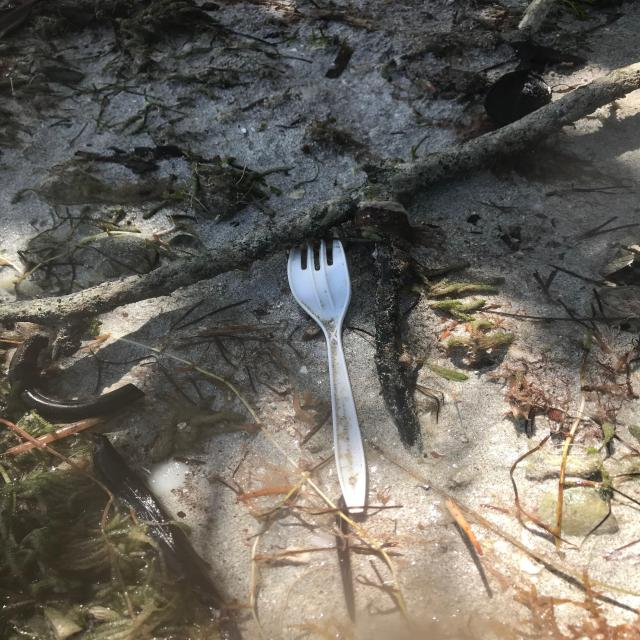litter: (287, 230, 367, 513)
